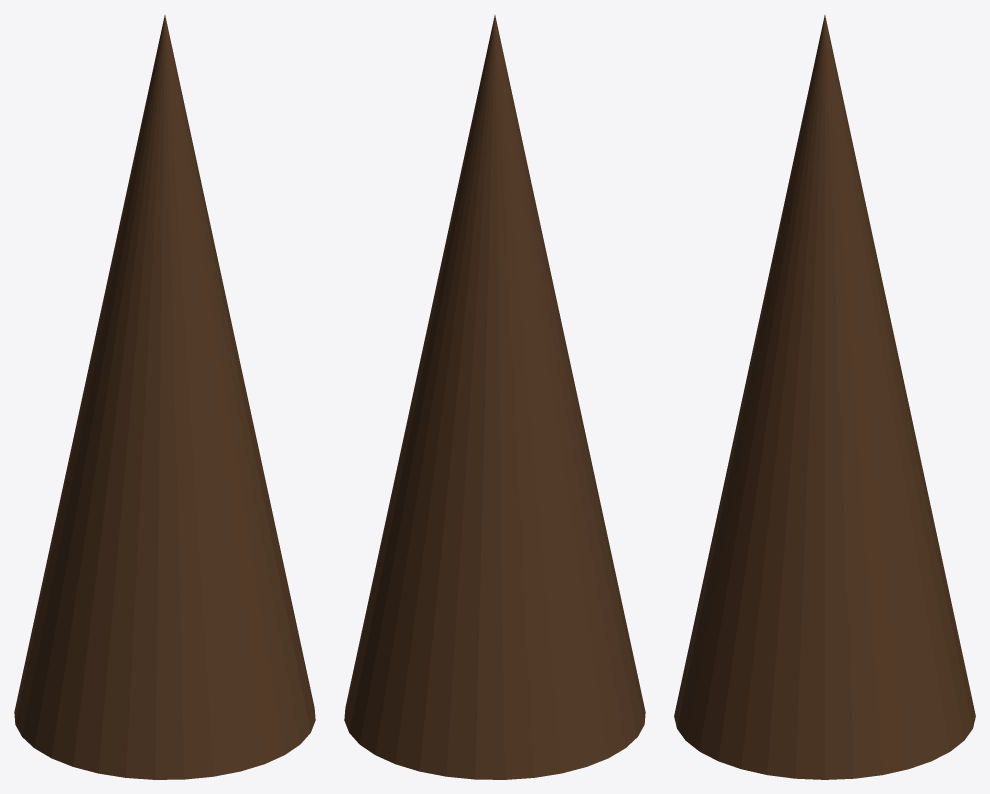
File: SPike.glb
3 views of the same model, side by side, from view 1: azimuth 30°, elevation 25°; view 2: azimuth 150°, elevation 25°; view 3: azimuth 270°, elevation 25° (orthographic).
Parts seen in each view (by area): view 1: Cone; view 2: Cone; view 3: Cone.
Boxes of the visible parts, x1,y1,x2,y2 form: Cone: [14, 15, 315, 779]; Cone: [344, 15, 645, 779]; Cone: [674, 15, 975, 779].
Bounding box in the file's own units: 2.82 × 7.24 × 2.82.
